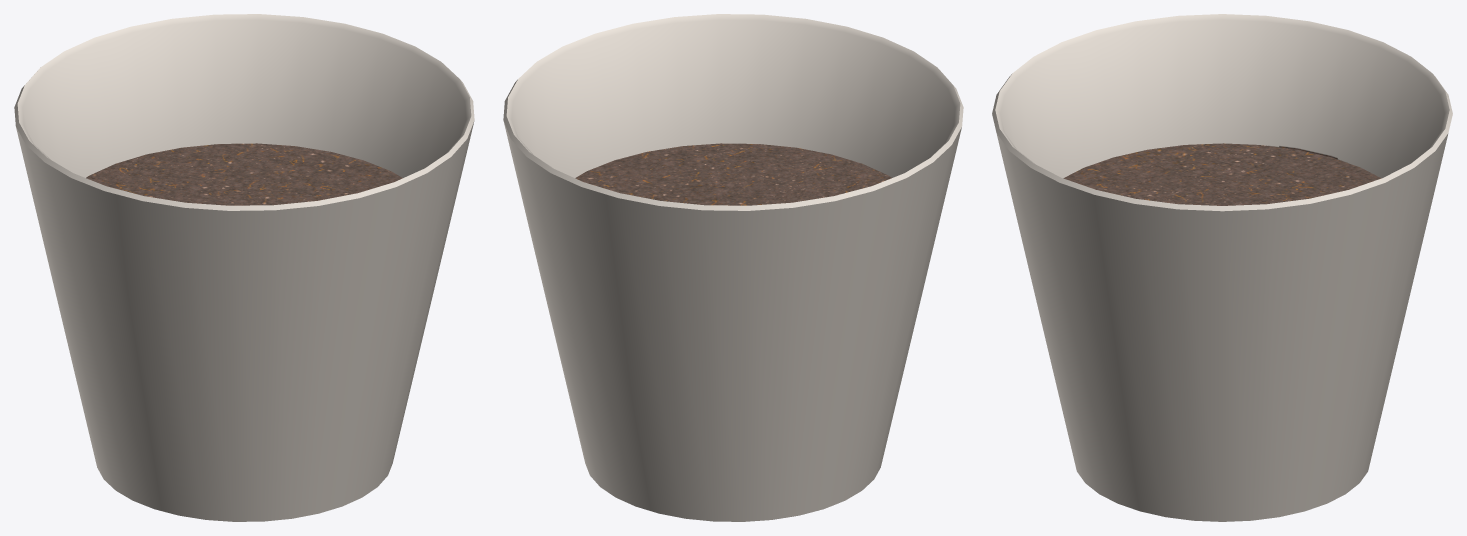
The model's file is Pot3.fbx.
The picture shows the model from 3 angles, left to right: view 1: azimuth 30°, elevation 25°; view 2: azimuth 150°, elevation 25°; view 3: azimuth 270°, elevation 25°; orthographic projection.
Visible parts, largest first — view 1: Pot2; view 2: Pot2; view 3: Pot2.
Boxes of the visible parts, x1,y1,x2,y2 form: Pot2: [14, 14, 474, 521]; Pot2: [503, 14, 963, 521]; Pot2: [992, 14, 1452, 521].
Bounding box in the file's own units: 23.97 × 20.04 × 23.97.
